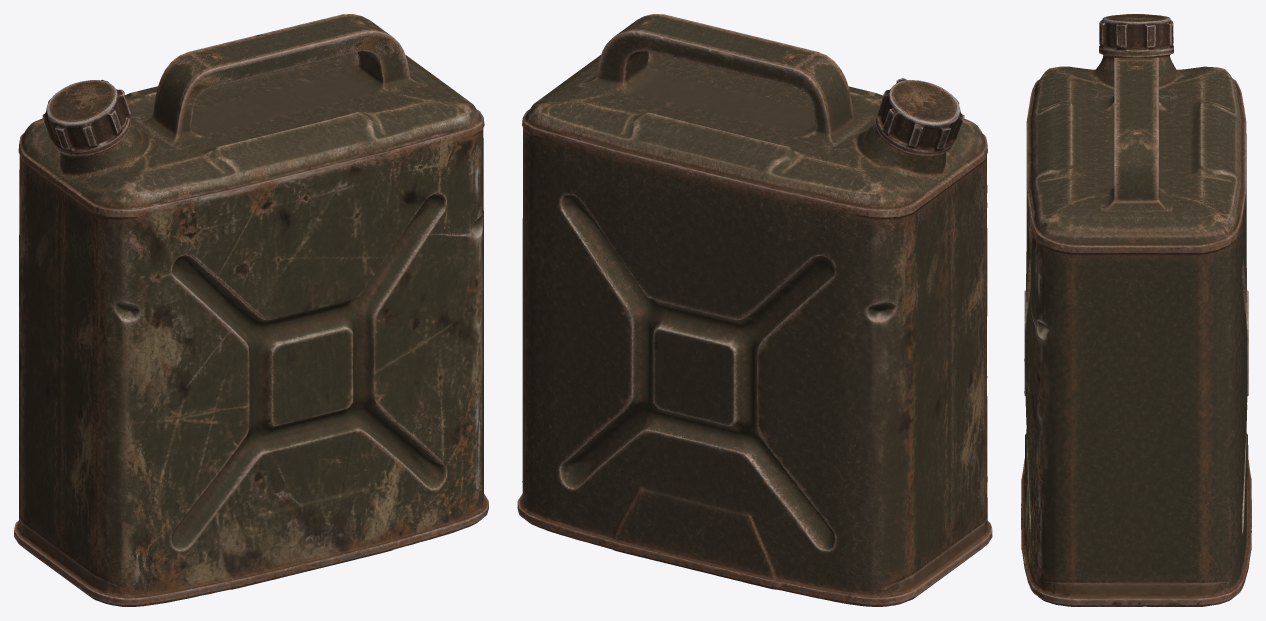
The model's file is Meshy_AI_Rusty_Jerry_Can_1015143541_texture.fbx.
The picture shows the model from 3 angles, left to right: view 1: azimuth 30°, elevation 25°; view 2: azimuth 150°, elevation 25°; view 3: azimuth 270°, elevation 25°; orthographic projection. The views are drawn at different scales.
Visible parts, largest first — view 1: Mesh_0; view 2: Mesh_0; view 3: Mesh_0.
Boxes of the visible parts, <box> form: Mesh_0: <box>14,14,488,606</box>; Mesh_0: <box>517,14,992,606</box>; Mesh_0: <box>1021,14,1251,606</box>.
Size of the model in its own units: 166 by 190 by 90.57.
1 material, 1 textured.
